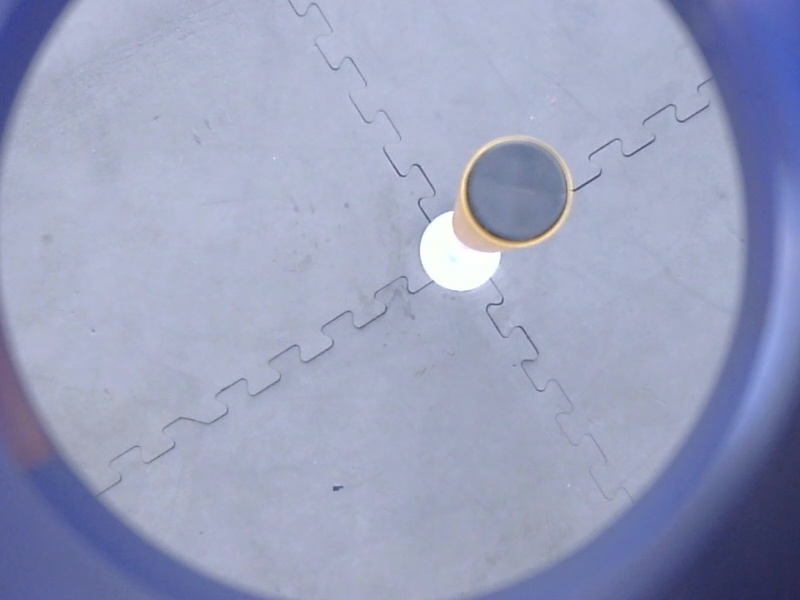tip: (454, 129, 580, 253)
